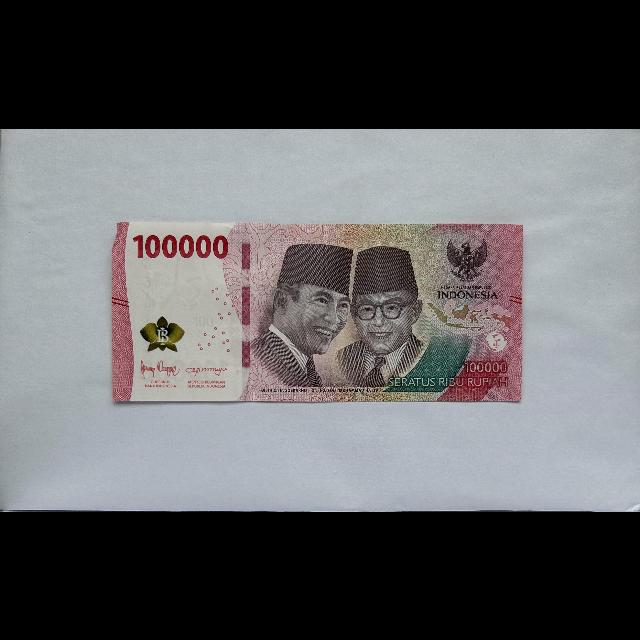Asli-100k: (110, 220, 524, 406)
Tinta-Asli-100k: (139, 314, 185, 352)
